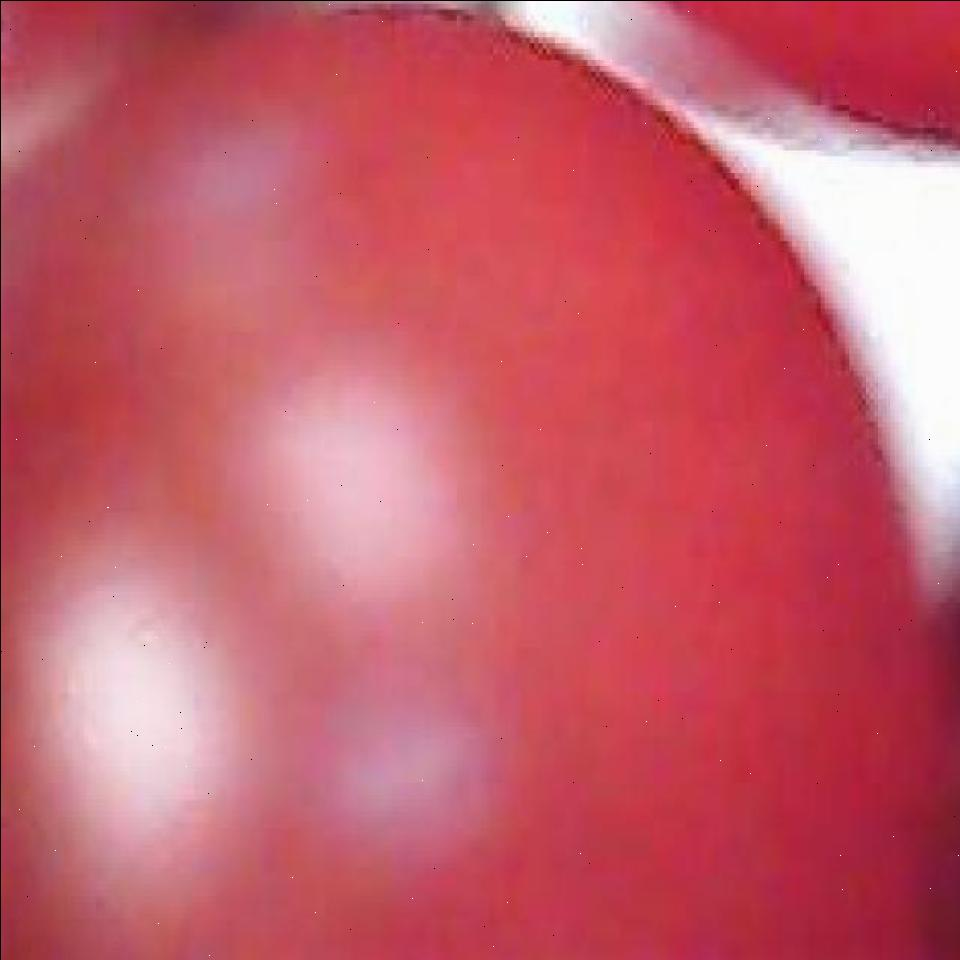Healthy: (6, 3, 957, 960)
